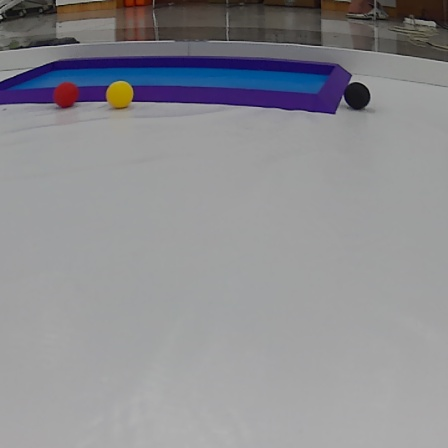black: (348, 83, 369, 110)
blue_aim: (0, 55, 344, 119)
red: (54, 80, 79, 113)
yellow: (100, 76, 137, 110)
